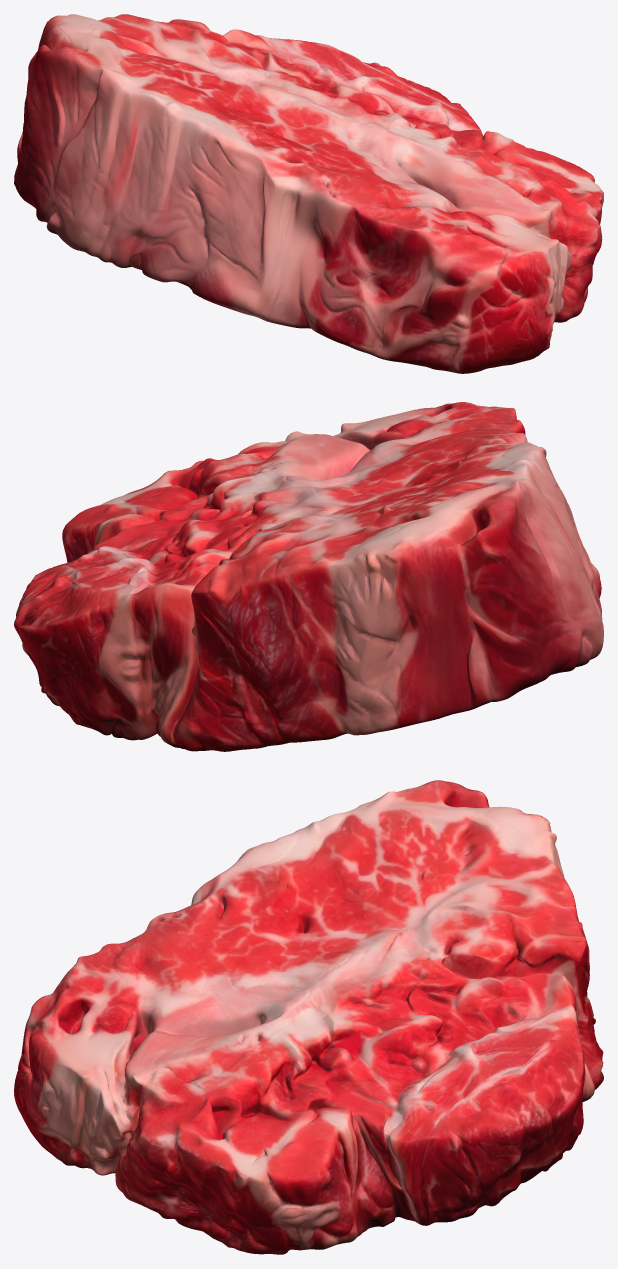
File: Beef.fbx
3 renders of one model, top to bottom at view 1: azimuth 30°, elevation 25°; view 2: azimuth 150°, elevation 25°; view 3: azimuth 270°, elevation 25°, orthographic. The views are drawn at different scales.
Visible parts, largest first — view 1: tripo_node_7307a780; view 2: tripo_node_7307a780; view 3: tripo_node_7307a780.
Part boxes in pixels (x1,y1,x2,y2): tripo_node_7307a780: (14,14,603,373); tripo_node_7307a780: (14,402,603,751); tripo_node_7307a780: (14,780,603,1254).
Bounding box in the file's own units: 95.73 × 97.9 × 48.94.
Materials: 1 (1 with a texture image).
